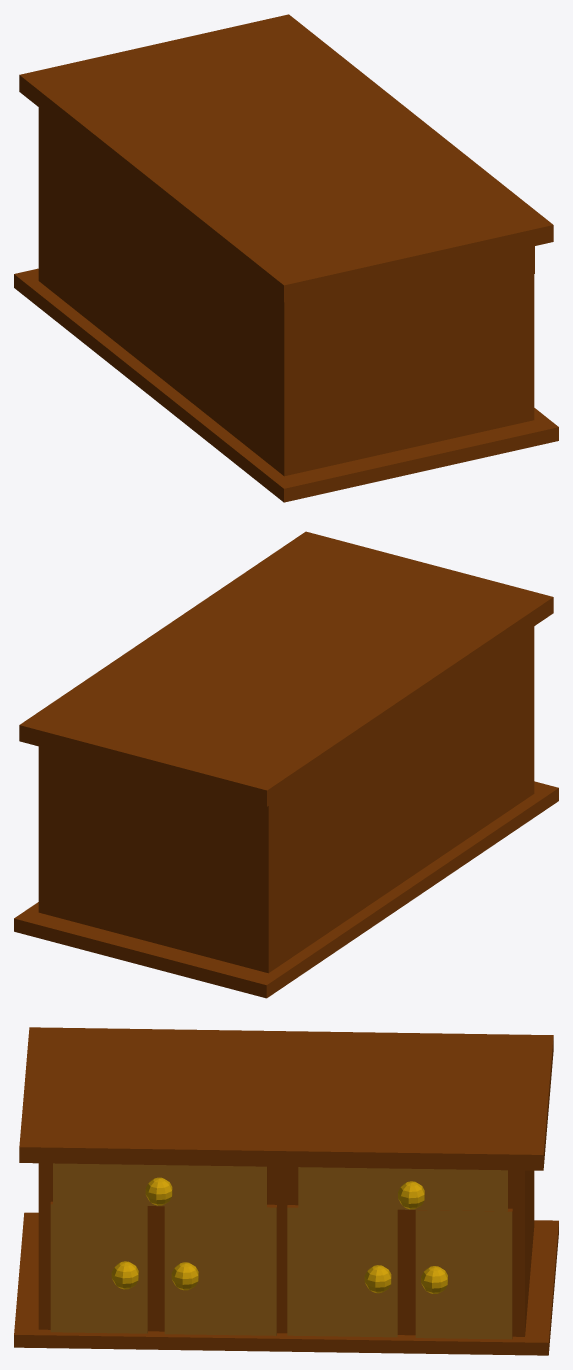
File: _omod.fbx
3 views of the same model, one above another, from view 1: azimuth 30°, elevation 25°; view 2: azimuth 150°, elevation 25°; view 3: azimuth 270°, elevation 25° (orthographic). The views are drawn at different scales.
Visible parts, largest first — view 1: komod; view 2: komod; view 3: komod.
Boxes of the visible parts, x1=… form: komod: x1=14, y1=14, x2=558, y2=502; komod: x1=14, y1=531, x2=558, y2=998; komod: x1=14, y1=1027, x2=558, y2=1355.
Bounding box in the file's own units: 233 × 154 × 382.
